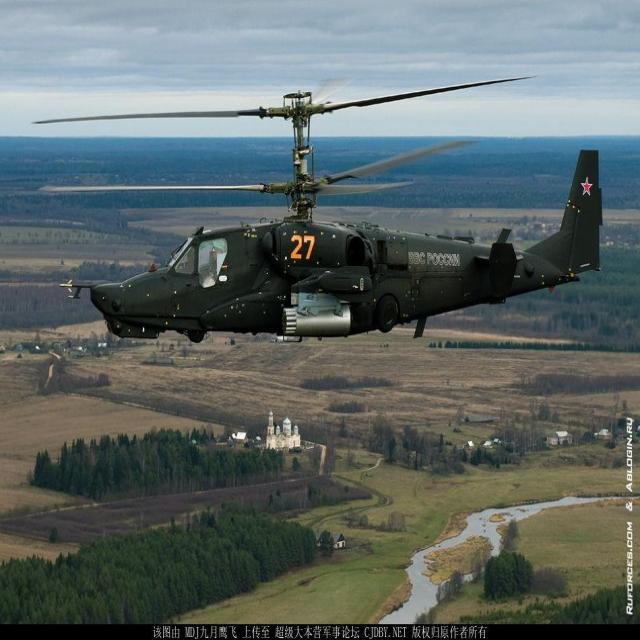MIL_HELO: (27, 65, 620, 368)
